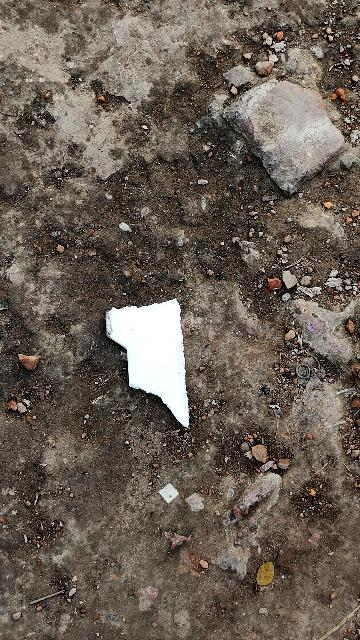cocksheet: (113, 297, 189, 426)
